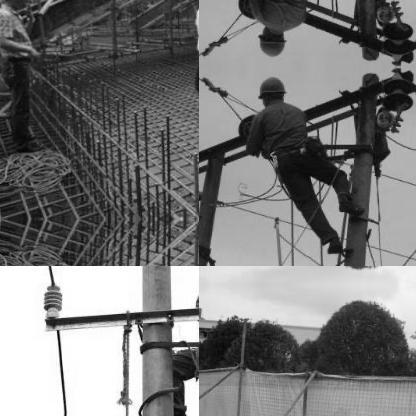Helmet: (254, 72, 288, 108), (254, 22, 288, 58), (0, 0, 30, 7)
